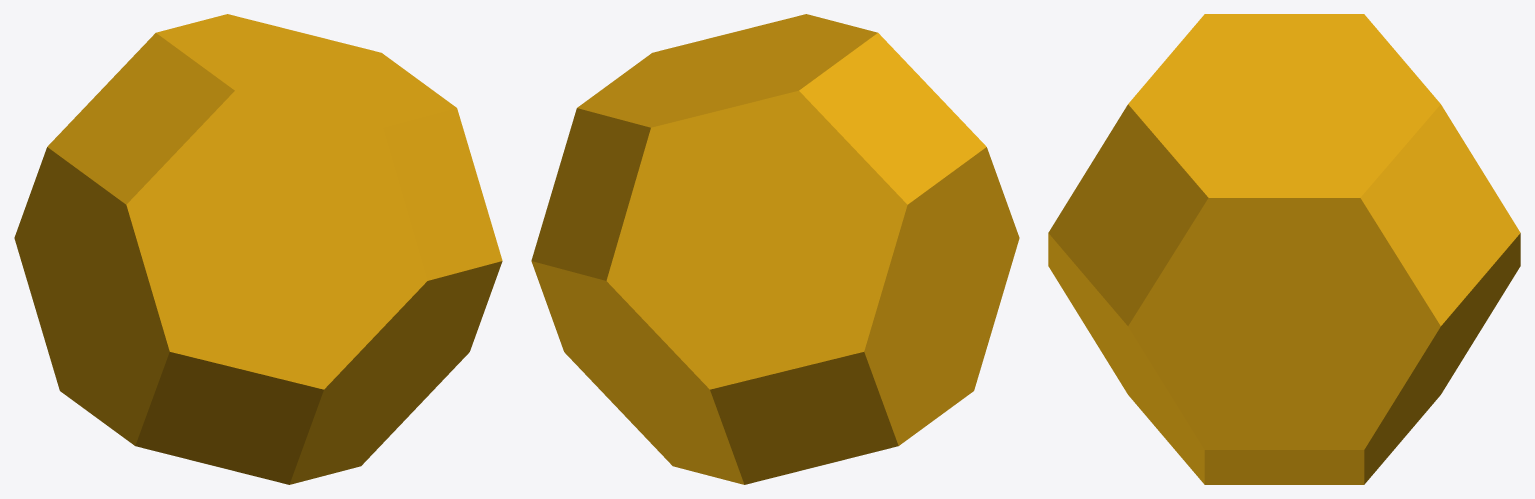
Rendered from yellow.glb.
The picture shows the model from 3 angles, left to right: view 1: azimuth 30°, elevation 25°; view 2: azimuth 150°, elevation 25°; view 3: azimuth 270°, elevation 25°; orthographic projection.
Parts seen in each view (by area): view 1: Cube.001_Cube.002; view 2: Cube.001_Cube.002; view 3: Cube.001_Cube.002.
Part boxes in pixels (left/top/right/bottom): Cube.001_Cube.002: left=14, top=14, right=502, bottom=484; Cube.001_Cube.002: left=531, top=14, right=1019, bottom=484; Cube.001_Cube.002: left=1048, top=14, right=1520, bottom=484.
Bounding box in the file's own units: 1.18 × 1.34 × 1.4.
1 material, 1 textured.
